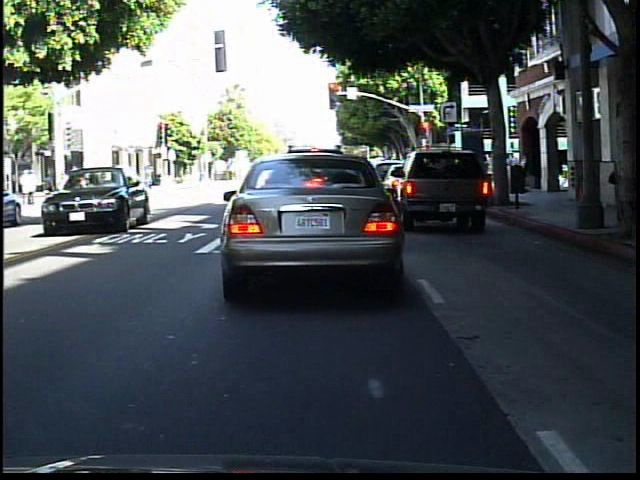person: (590, 142, 612, 217), (618, 141, 639, 219), (139, 158, 157, 193), (70, 161, 87, 198), (61, 163, 74, 206), (44, 168, 58, 196)
